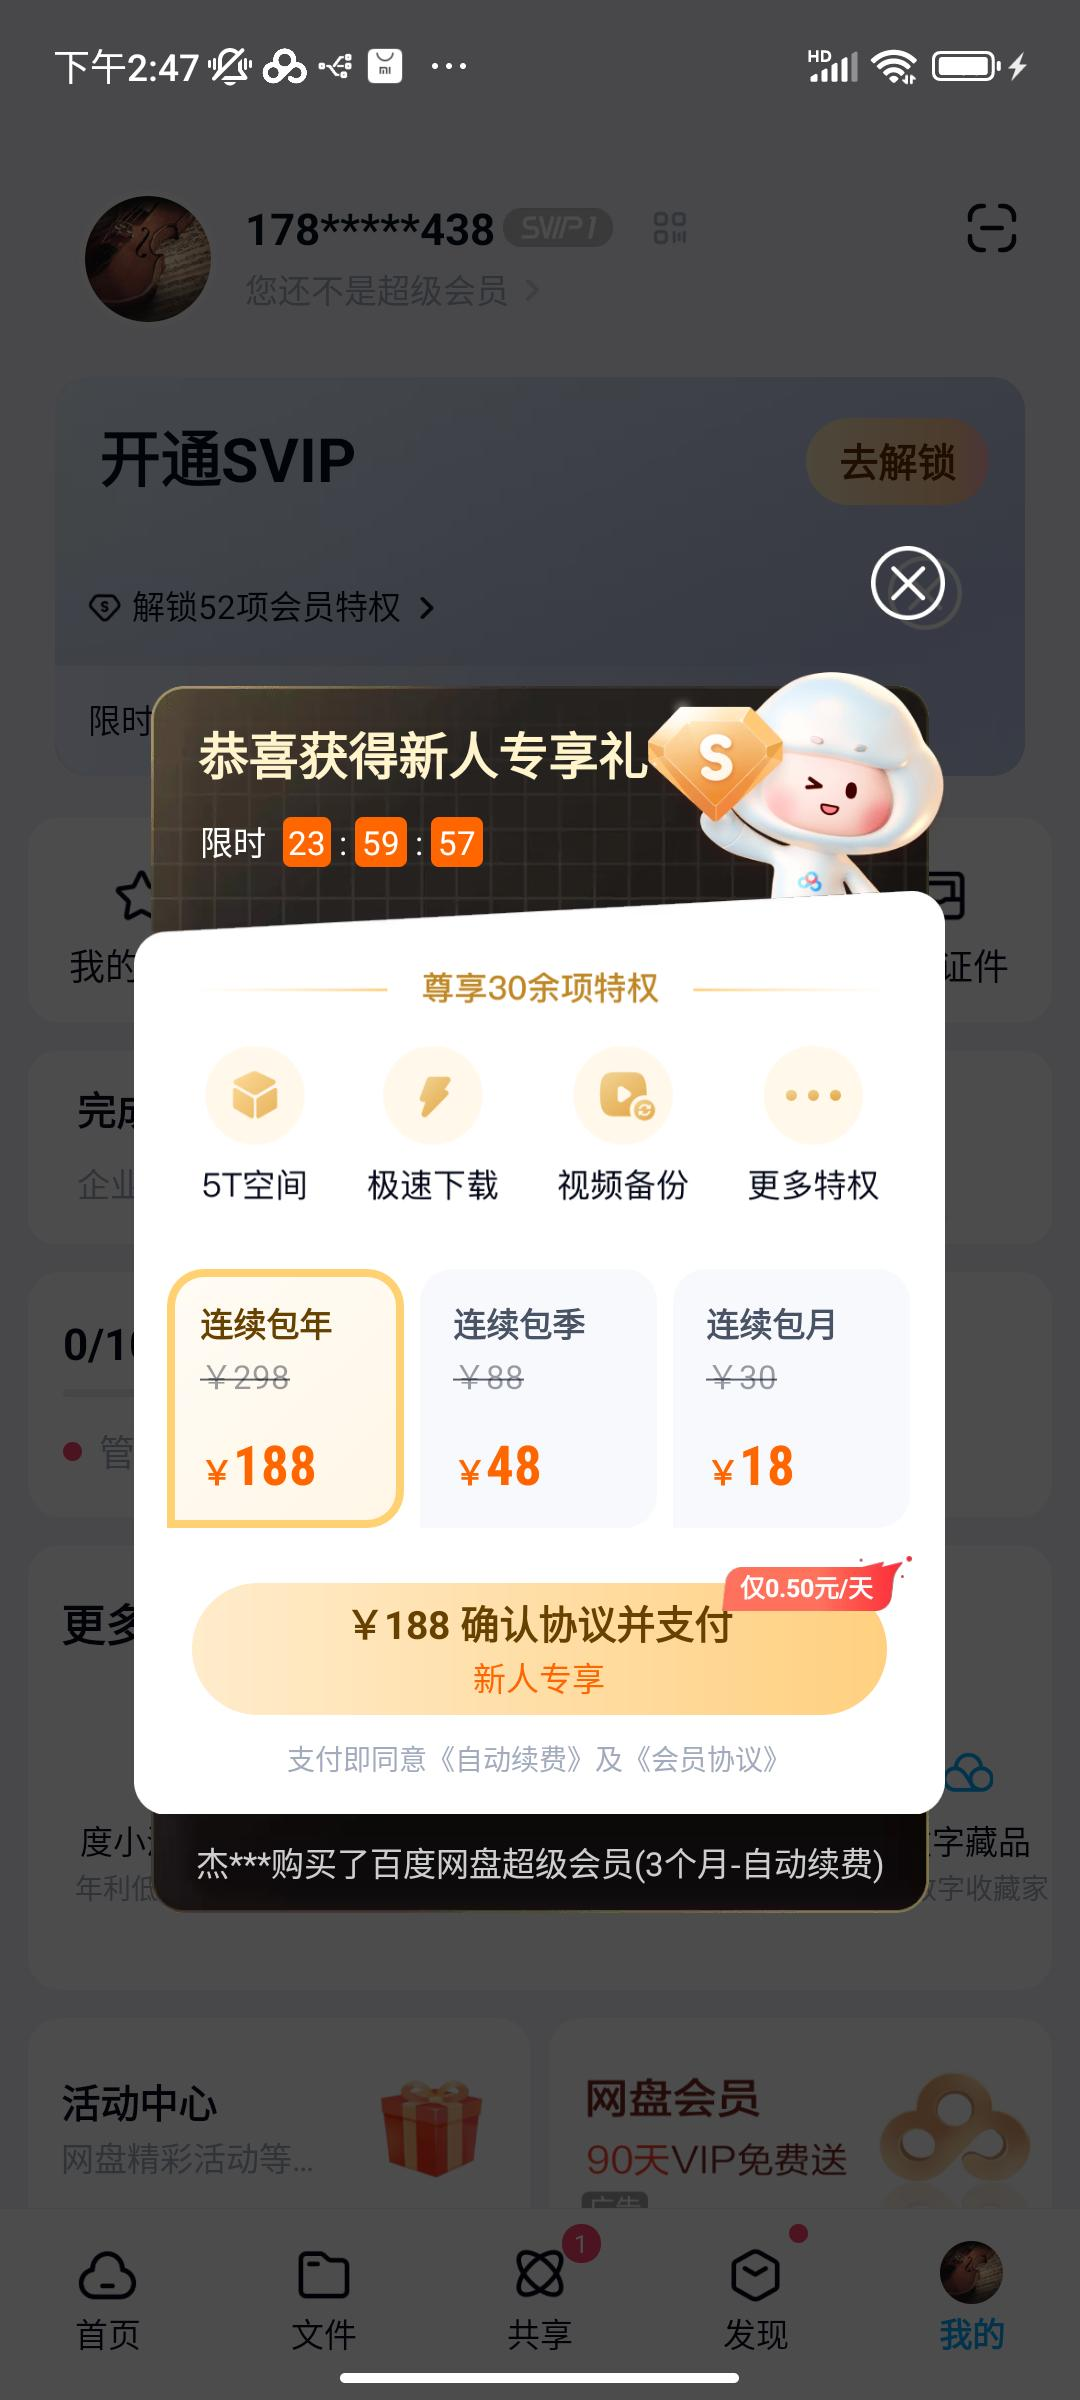ui_group: (133, 673, 944, 1909)
